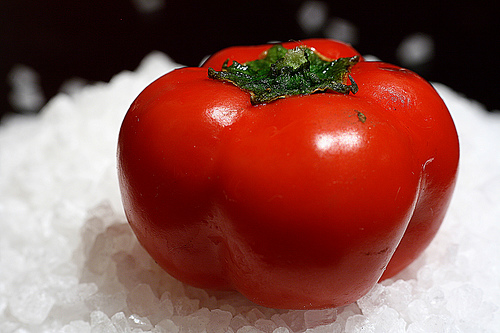capsicum: (115, 38, 461, 315)
